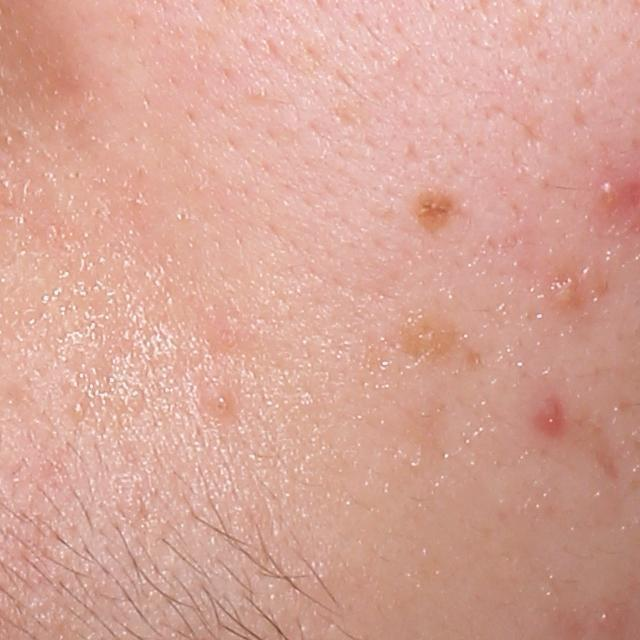comedo: (209, 388, 240, 422)
melasma: (388, 311, 445, 370), (401, 188, 458, 239)
papule: (597, 177, 636, 217), (536, 401, 573, 438)
